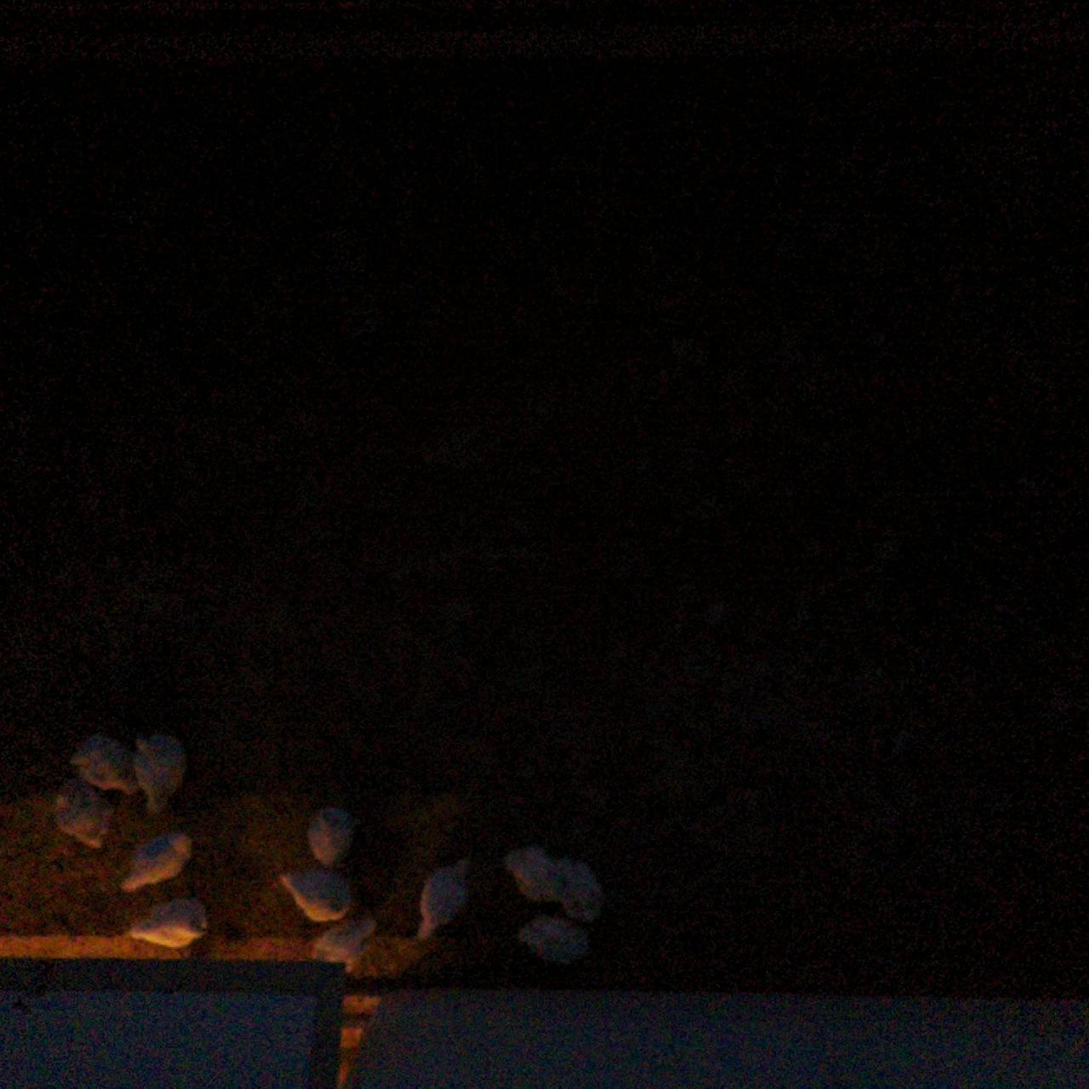chicken: (411, 846, 487, 948), (115, 825, 199, 899), (63, 724, 147, 797), (124, 726, 189, 814), (125, 893, 212, 956), (50, 777, 122, 853), (276, 864, 359, 927), (299, 798, 365, 870), (516, 912, 594, 969), (308, 913, 381, 972), (502, 837, 564, 906), (555, 857, 611, 920)
